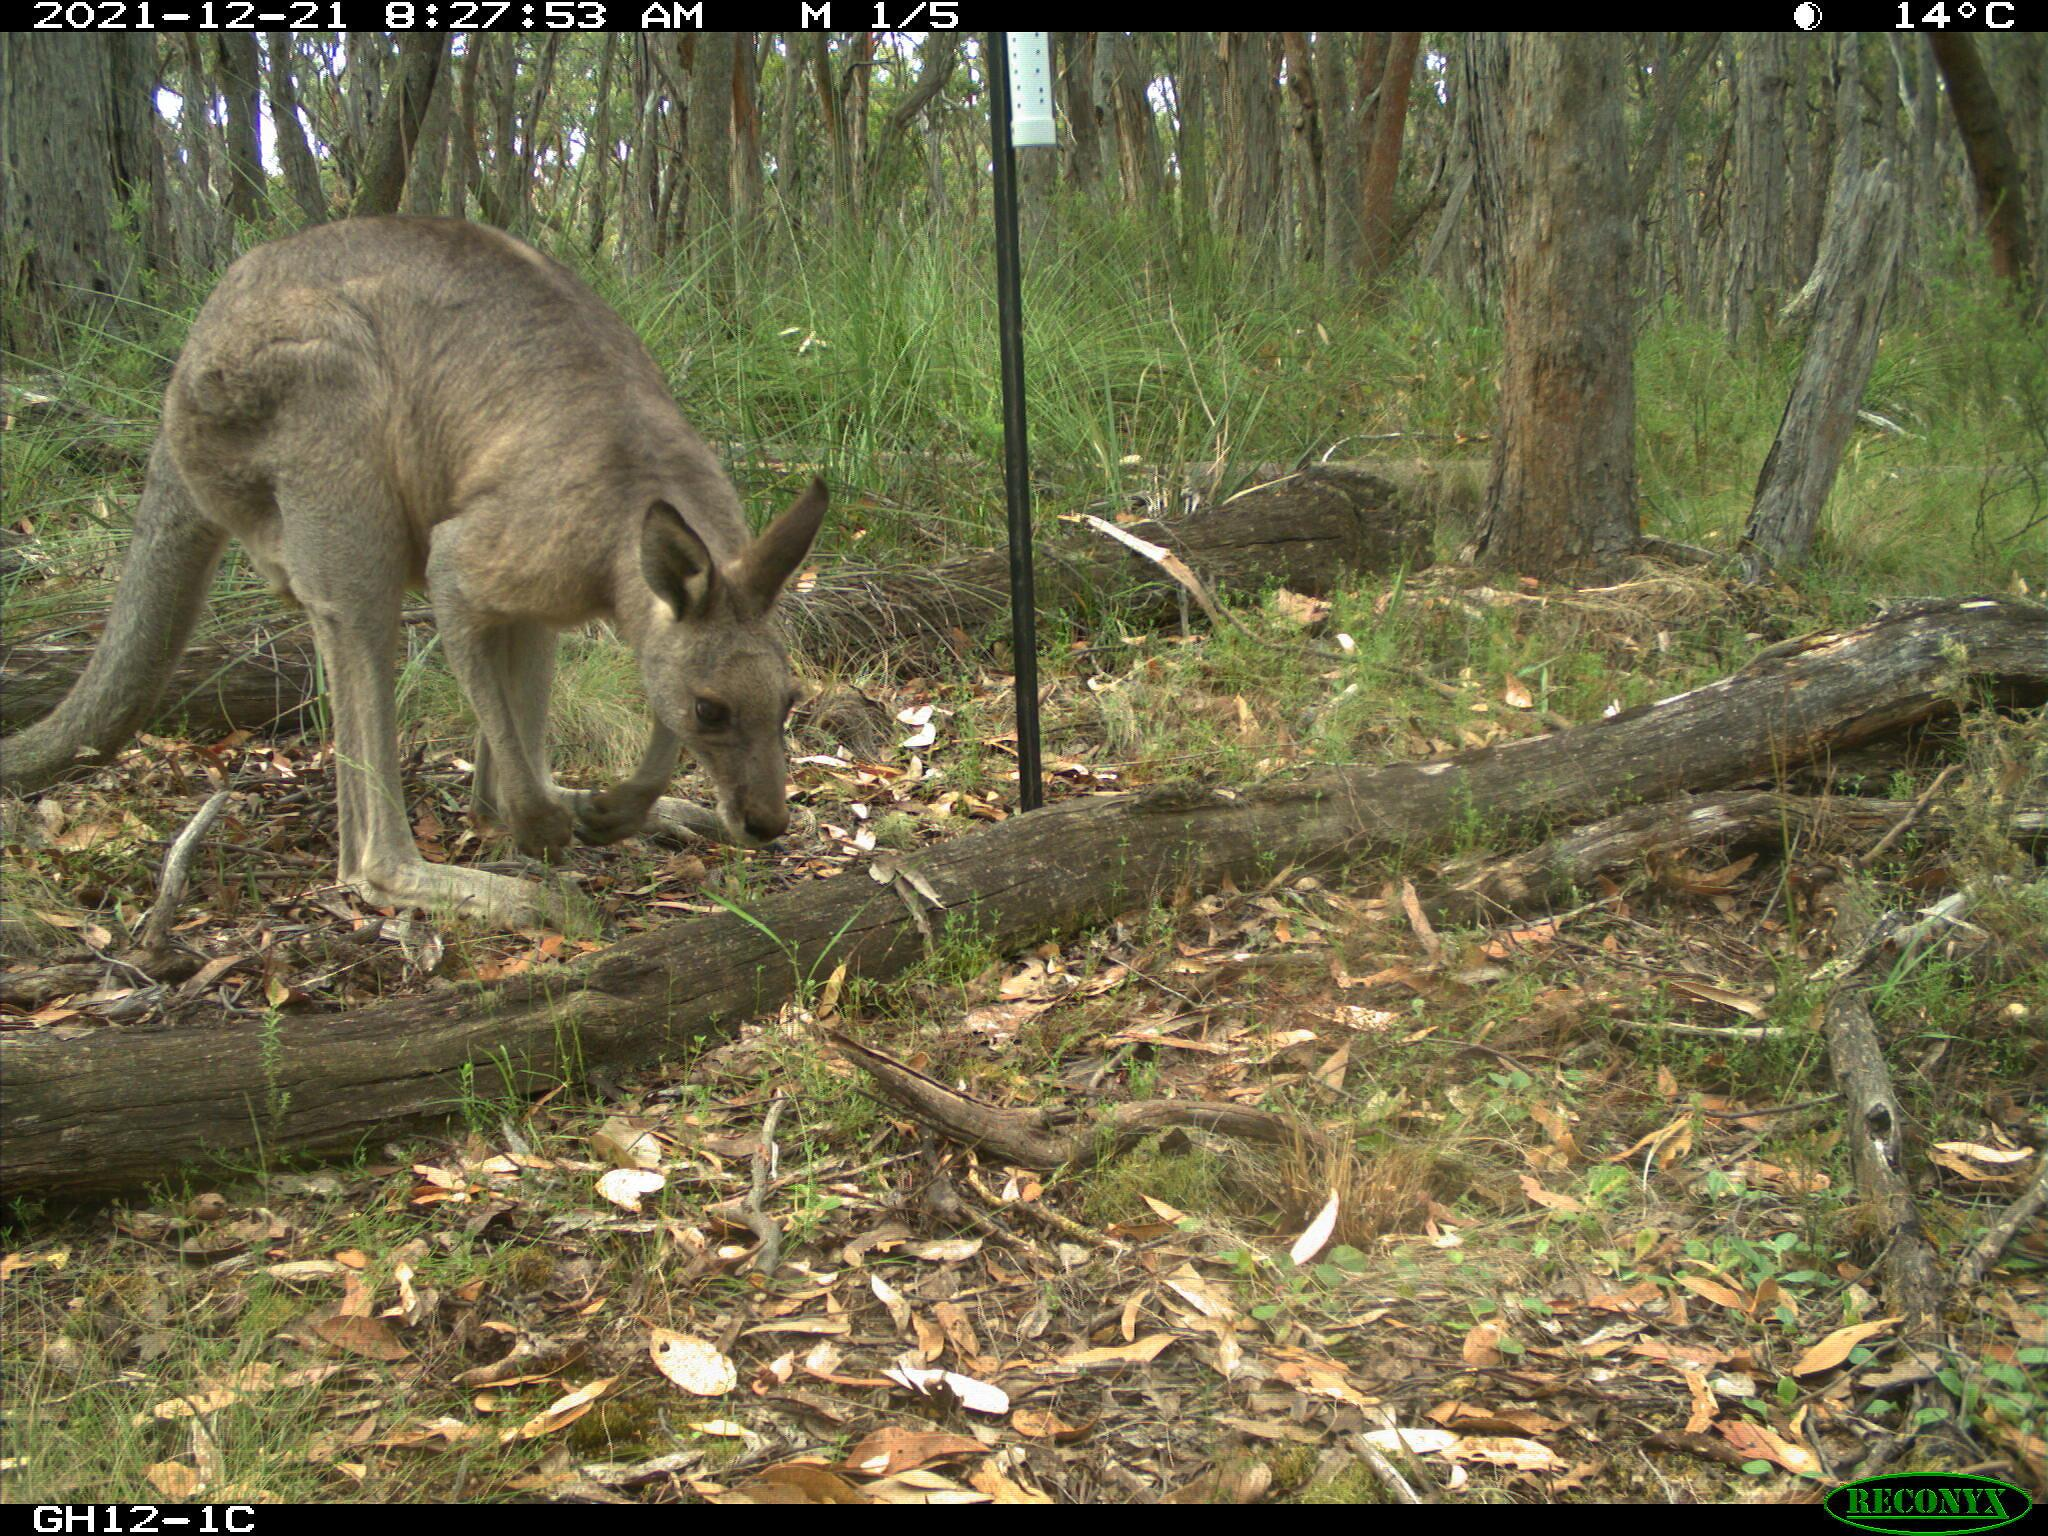Eastern grey kangaroo: (0, 207, 824, 1049)
